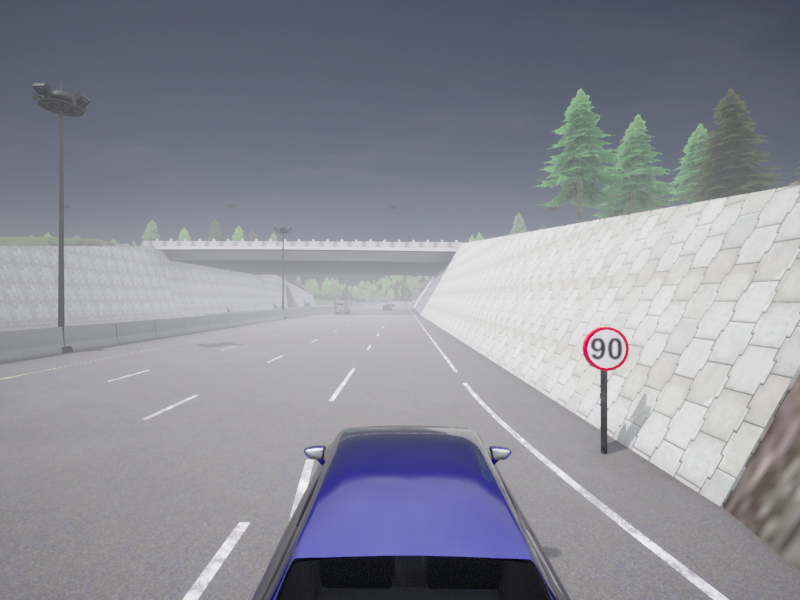vehicle: (251, 425, 570, 599), (334, 300, 351, 313), (383, 304, 391, 310), (382, 301, 387, 305), (390, 303, 394, 306)
